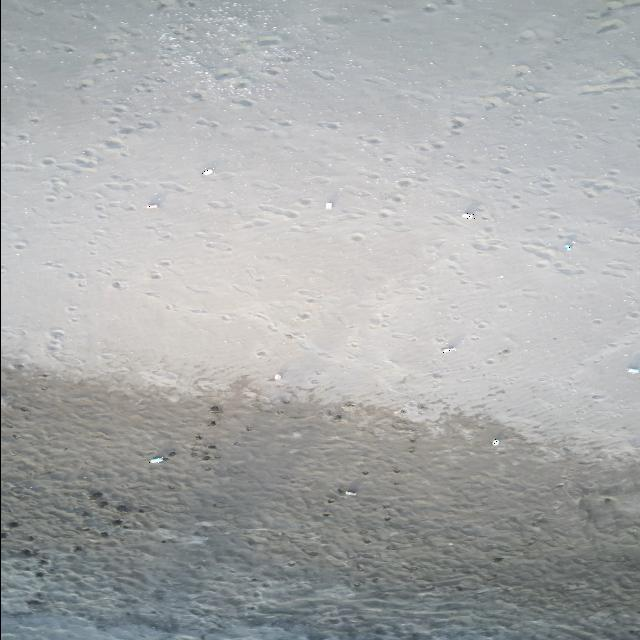Garbage: (337, 482, 356, 495), (149, 455, 167, 463), (563, 240, 573, 251), (463, 211, 475, 219), (209, 404, 221, 412), (202, 167, 212, 175), (145, 201, 158, 207), (442, 346, 455, 352), (492, 437, 499, 446), (346, 488, 355, 495), (627, 367, 639, 372), (324, 200, 332, 207), (273, 372, 279, 380)
